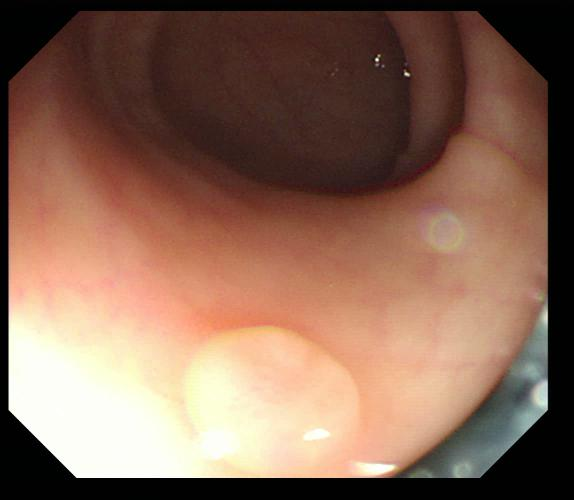polyp: (184, 323, 358, 471)
